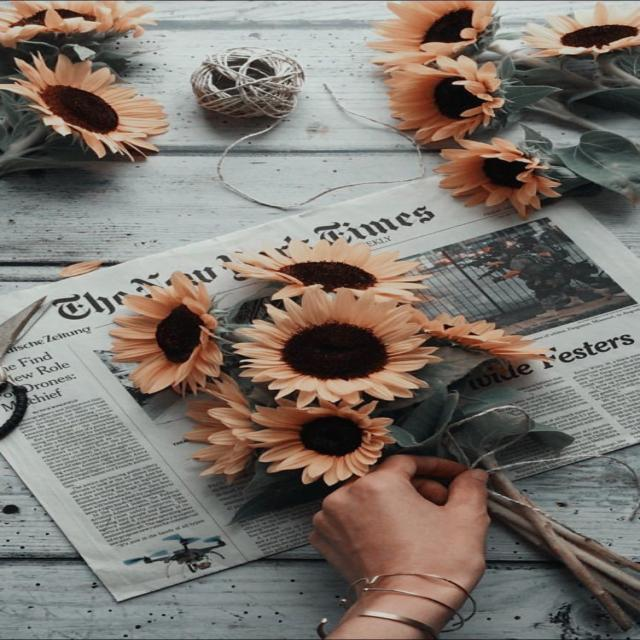sunflower: (229, 286, 443, 407), (0, 51, 170, 162), (107, 270, 226, 396), (220, 237, 433, 306), (245, 396, 398, 486), (382, 54, 506, 145), (432, 136, 564, 220), (365, 0, 497, 67), (416, 312, 554, 372), (181, 372, 256, 482), (0, 0, 157, 48), (518, 2, 640, 58)
